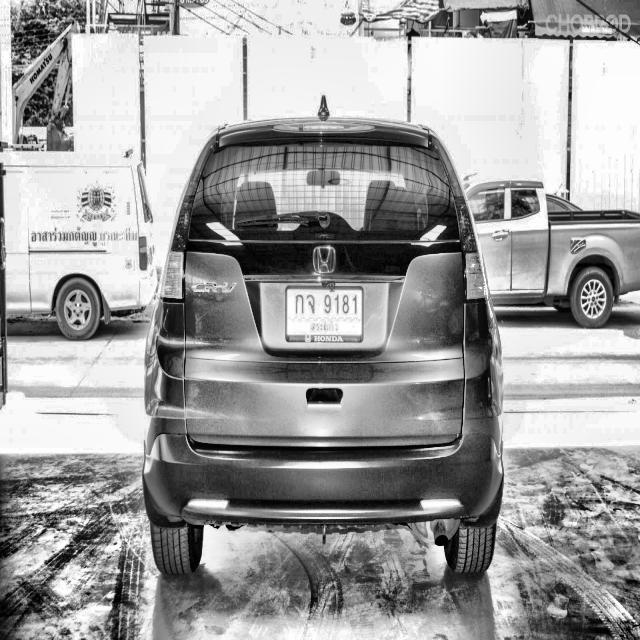license-plate: (285, 282, 364, 345)
